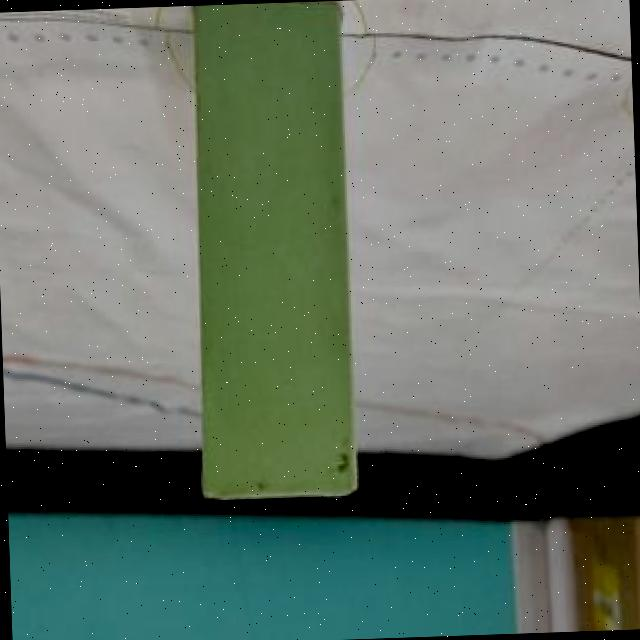greenbox: (189, 0, 356, 499)
